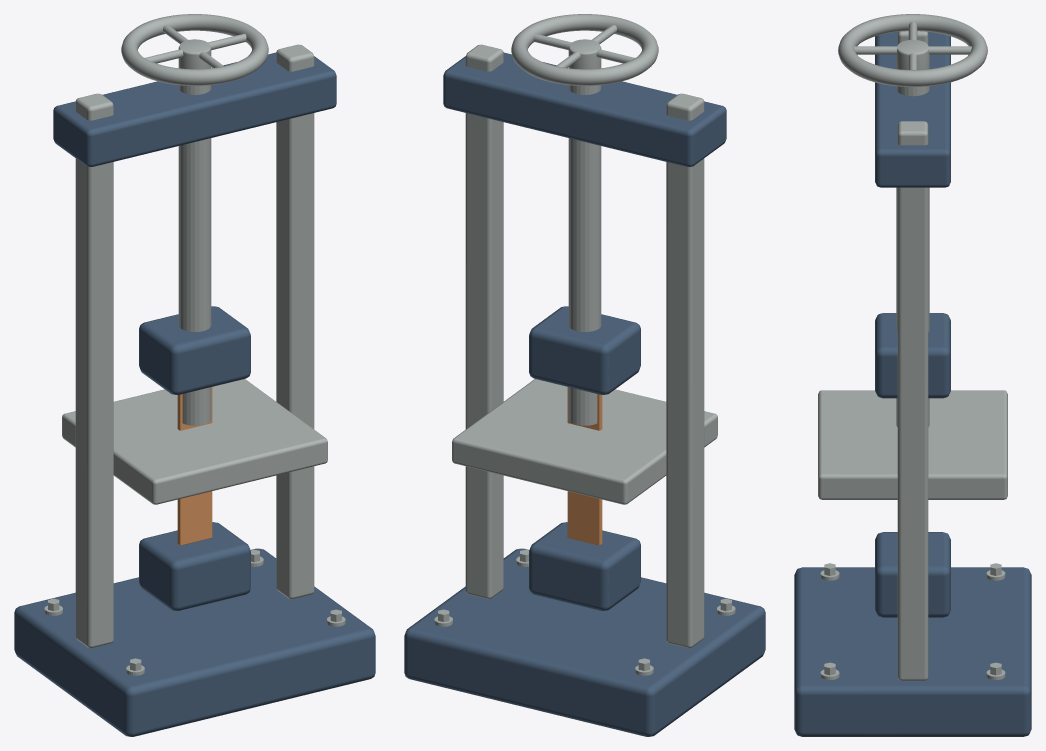
Rendered from spacecraft-parachute-packing-hall-spacecraft-parachute-428a5542__32097.glb.
3 renders of one model, left to right at view 1: azimuth 30°, elevation 25°; view 2: azimuth 150°, elevation 25°; view 3: azimuth 270°, elevation 25°, orthographic.
Parts seen in each view (by area): view 1: spacecraft-parachute-packing-hall-textile-specimen-tensile-f (×3); view 2: spacecraft-parachute-packing-hall-textile-specimen-tensile-f (×3); view 3: spacecraft-parachute-packing-hall-textile-specimen-tensile-f (×2).
Boxes of the visible parts, bbox=[...] form: spacecraft-parachute-packing-hall-textile-specimen-tensile-f (×3): bbox=[14, 14, 375, 736]; spacecraft-parachute-packing-hall-textile-specimen-tensile-f (×3): bbox=[404, 14, 765, 736]; spacecraft-parachute-packing-hall-textile-specimen-tensile-f (×2): bbox=[794, 14, 1031, 736].
Size of the model in its own units: 0.62 by 1.48 by 0.4999.
